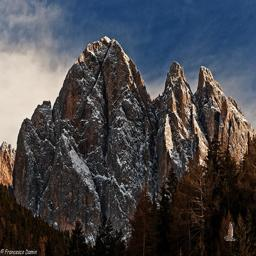Cuckoo: (224, 223, 238, 242)
